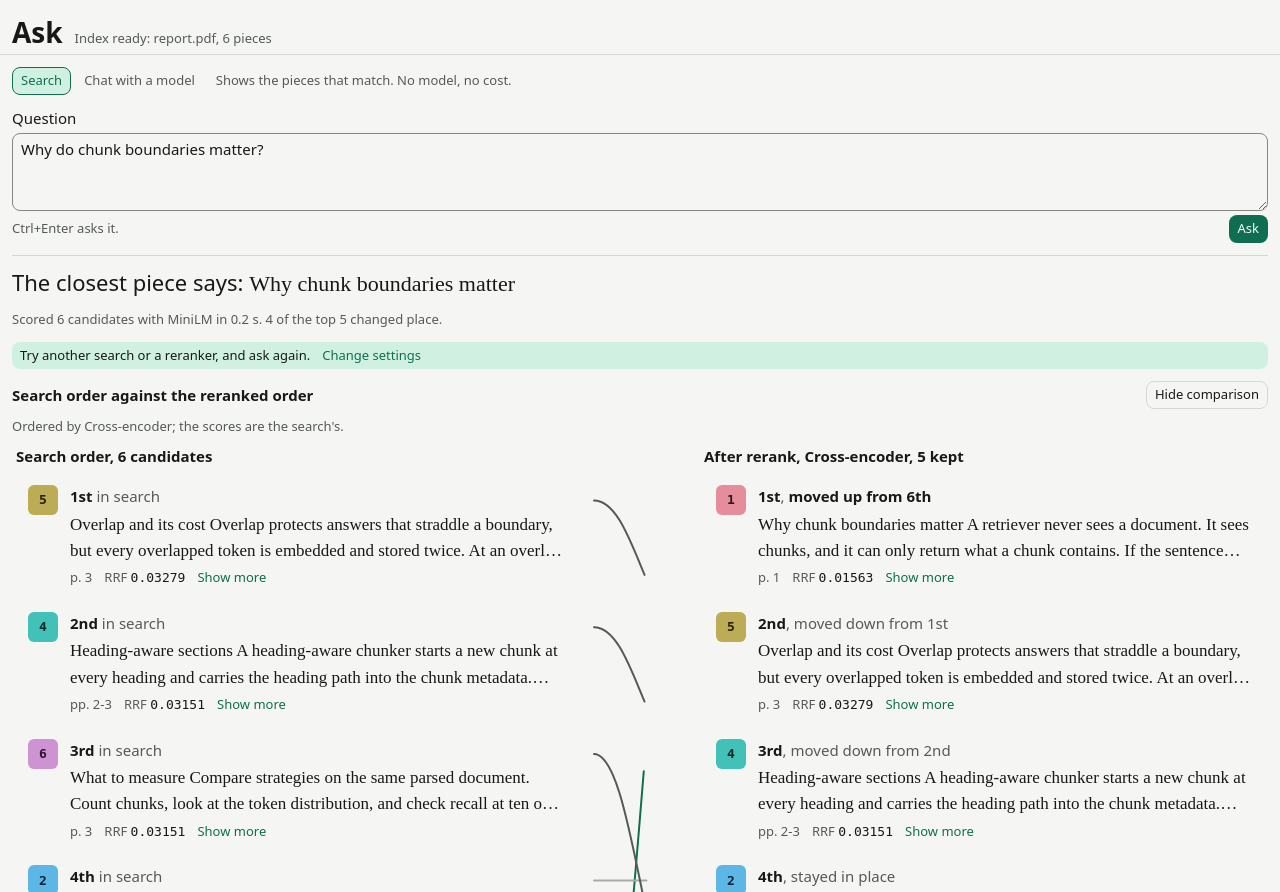
the comparison, with a reranker › collapsed, the title row is the right list's title beside Show comparison
Click the button "Hide comparison": (1207, 395) [1146,381,1268,409]
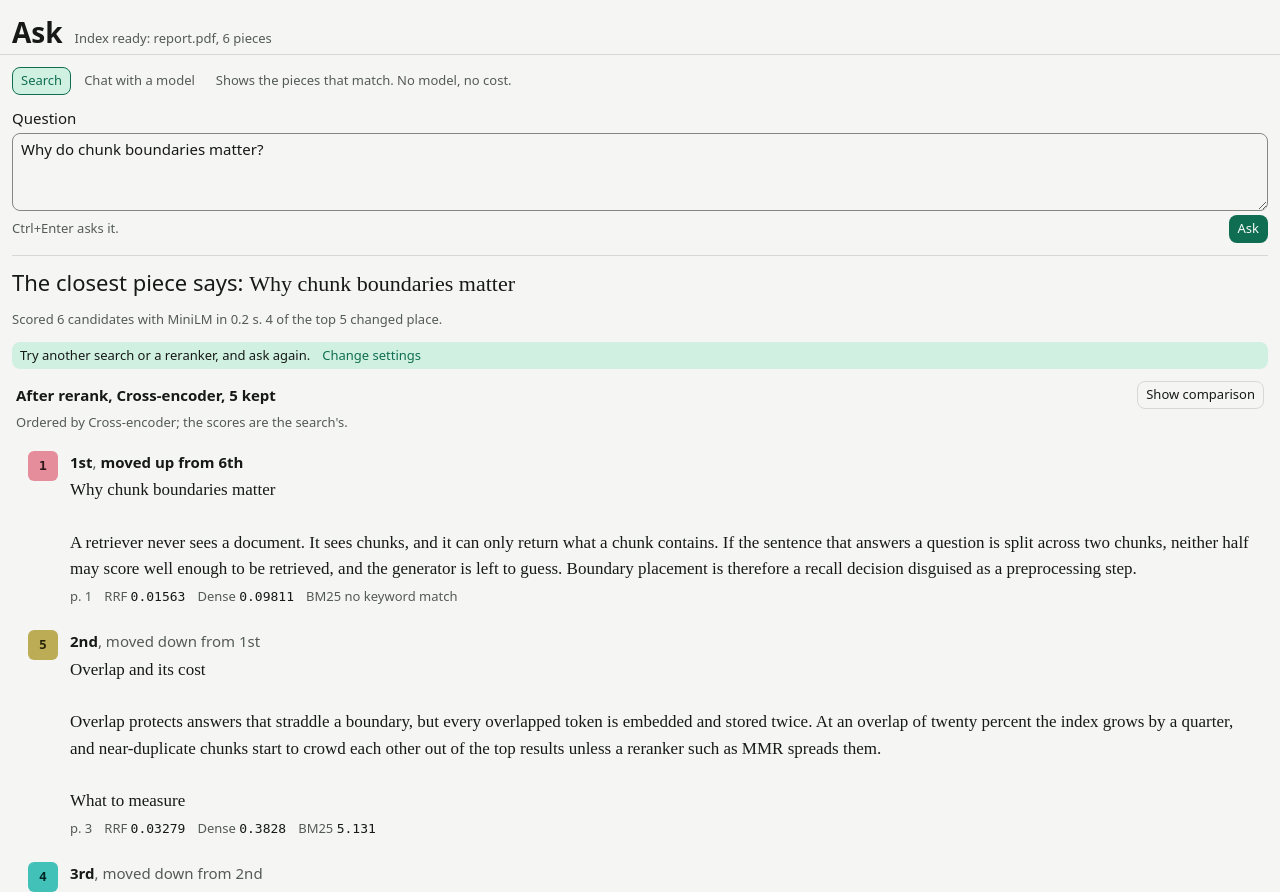
Expected: the heading "Search order against the reranked order" is gone
Expected: the number of headings "After rerank, Cross-encoder, 5 kept" is 1, [16,384,276,406]
